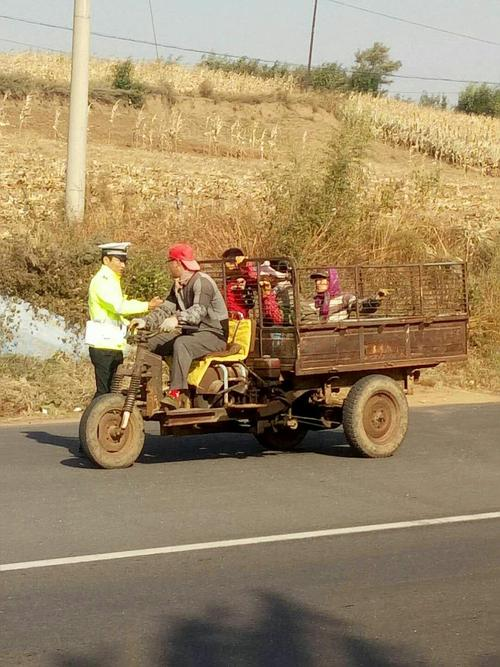driver: (149, 244, 231, 401)
overloading: (60, 211, 483, 485)
passenger: (307, 254, 384, 340), (220, 242, 280, 326)
